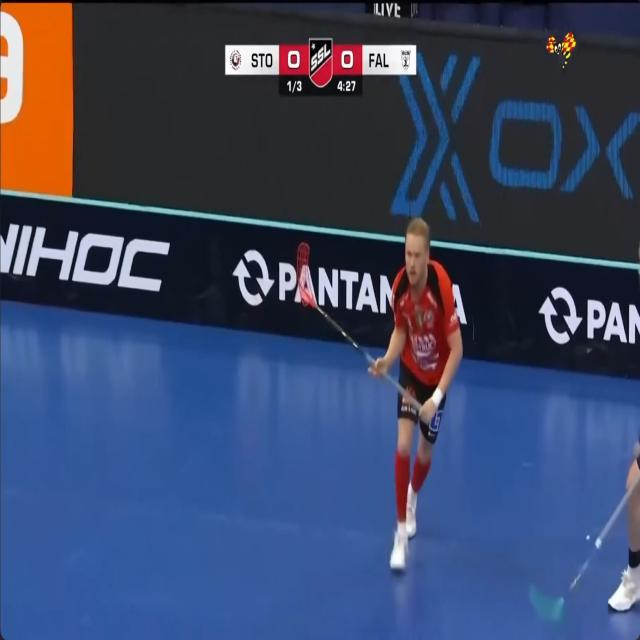player: (369, 218, 462, 569), (609, 485, 640, 612), (626, 438, 640, 490), (638, 246, 640, 261)
stick: (297, 243, 375, 365), (567, 475, 639, 595), (314, 305, 375, 365), (595, 475, 639, 548)
